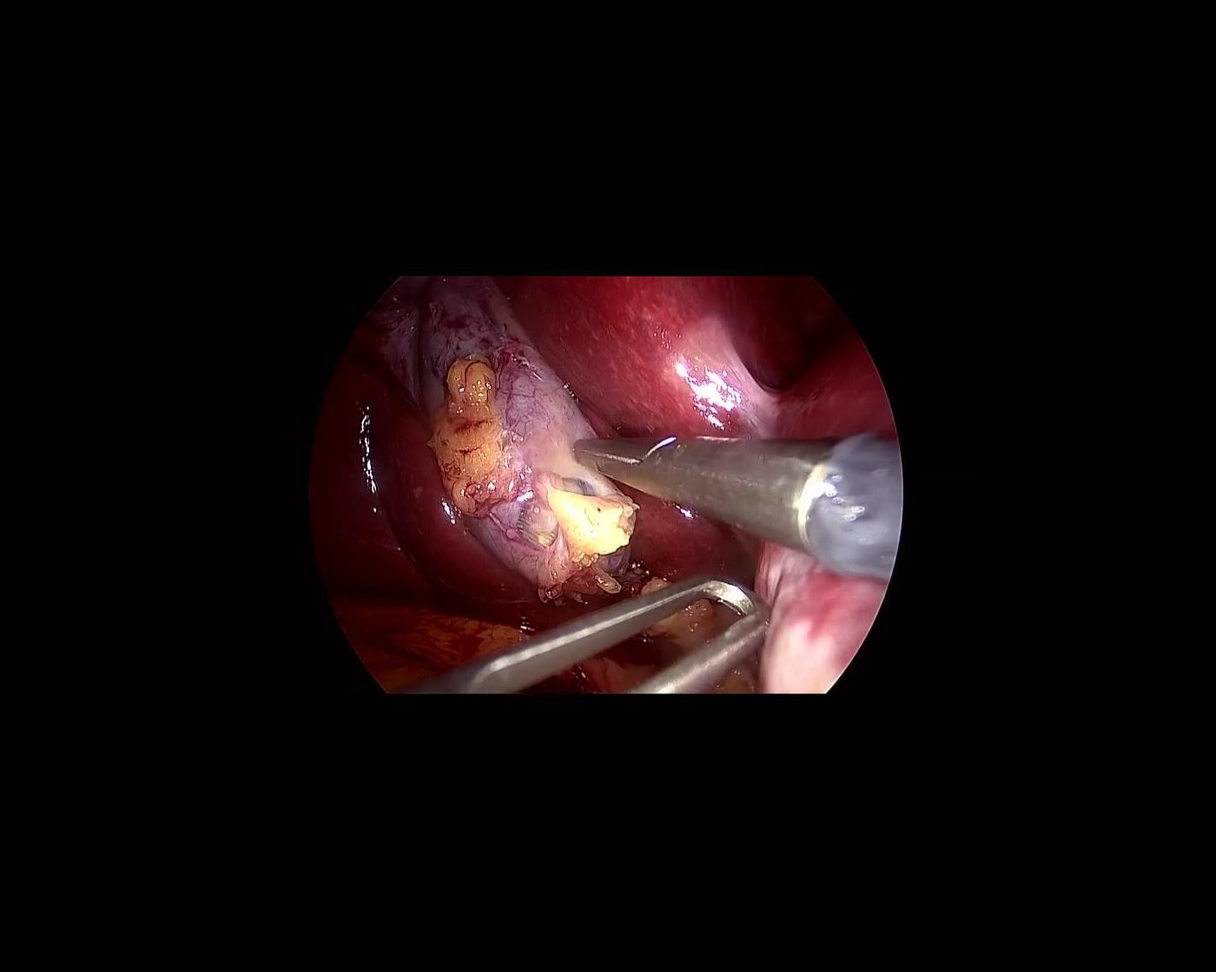Forceps: (391, 571, 775, 697), (573, 437, 903, 582)
Gallbladder: (340, 236, 662, 628)
Liver: (502, 157, 934, 623), (225, 340, 577, 719)
